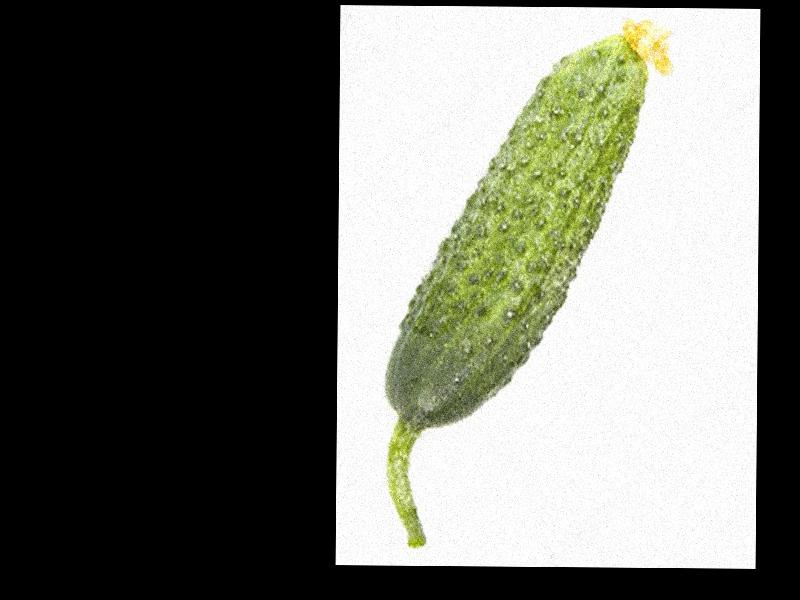Cucumber: (383, 15, 676, 545)
